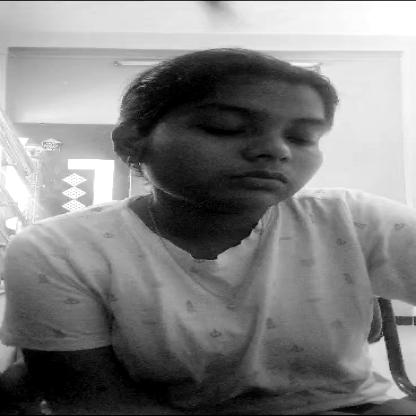Distracted: (101, 59, 355, 212)
